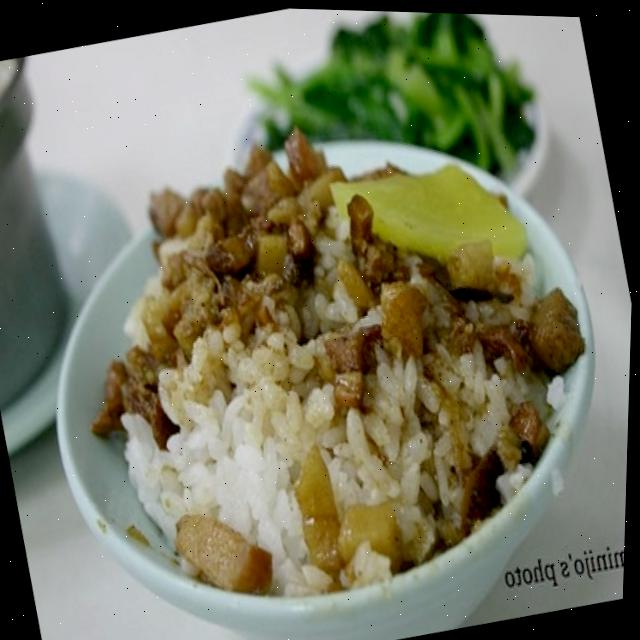猪肉菜式: (0, 22, 639, 640)
